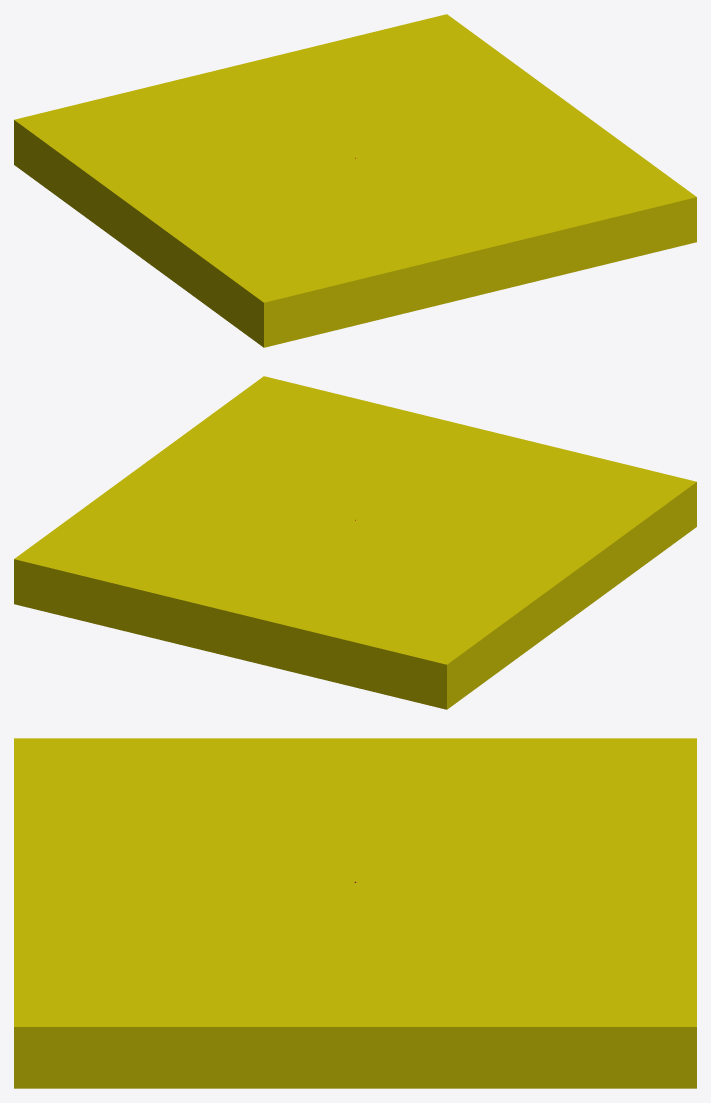
3 views of the same model, one above another, from view 1: azimuth 30°, elevation 25°; view 2: azimuth 150°, elevation 25°; view 3: azimuth 270°, elevation 25° (orthographic). The views are drawn at different scales.
Parts seen in each view (by area): view 1: a; view 2: a; view 3: a.
Boxes of the visible parts, left/top/right/bottom form: a: left=14, top=14, right=696, bottom=347; a: left=14, top=376, right=696, bottom=709; a: left=14, top=738, right=696, bottom=1088.
Bounding box in the file's own units: 20.1 × 20.1 × 2.02.
